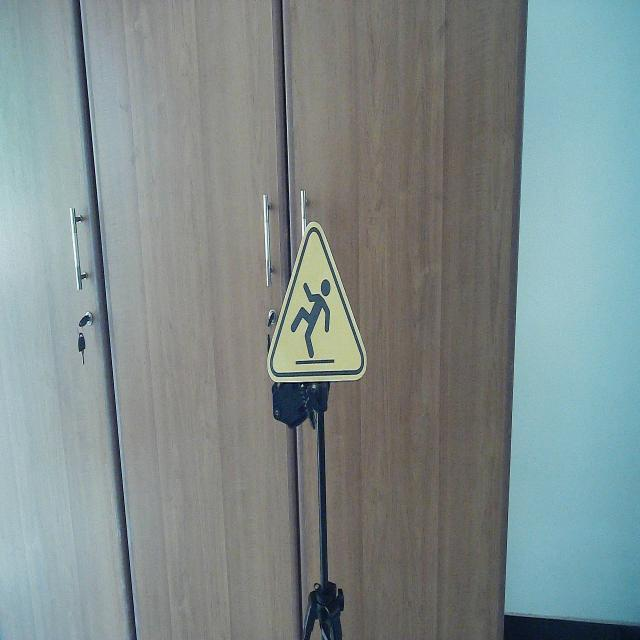slippery_sign: (266, 218, 368, 386)
